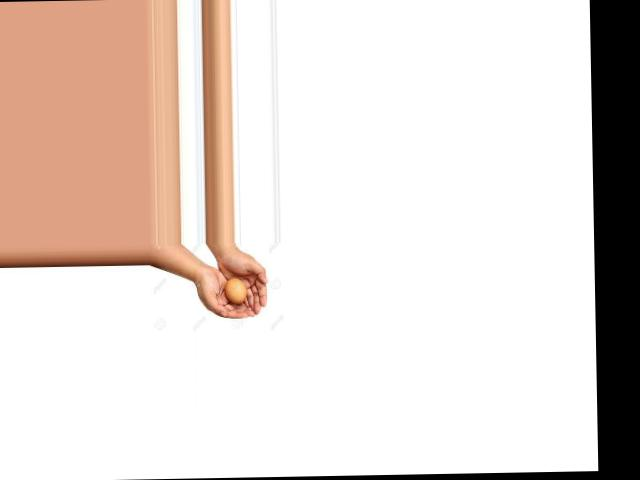egg: (224, 278, 246, 302)
